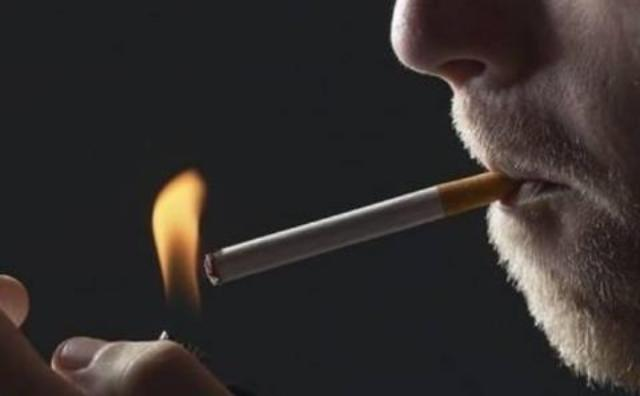Cigarette: (203, 170, 512, 286)
